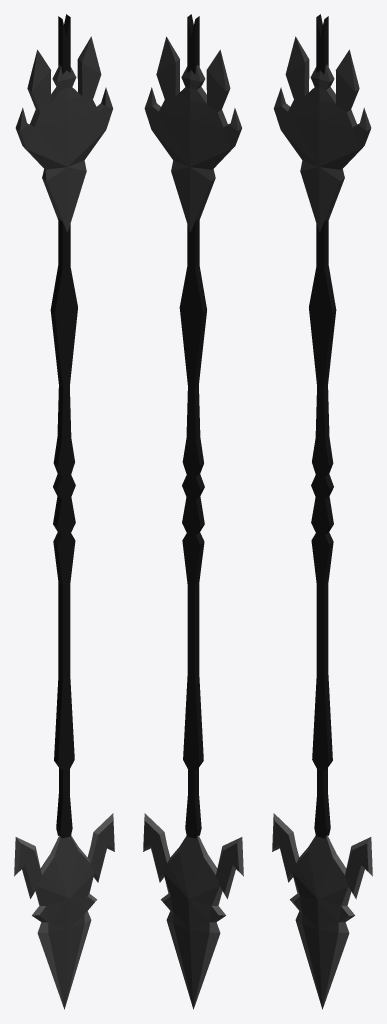
Rendered from Arrow_12.fbx.
The picture shows the model from 3 angles, left to right: view 1: azimuth 30°, elevation 25°; view 2: azimuth 150°, elevation 25°; view 3: azimuth 330°, elevation 25°; orthographic projection.
Visible parts, largest first — view 1: Comp_Arrow_12; view 2: Comp_Arrow_12; view 3: Comp_Arrow_12.
Part boxes in pixels (box(x1,y1,x2,y2)): Comp_Arrow_12: box(14, 14, 114, 1009); Comp_Arrow_12: box(143, 14, 243, 1009); Comp_Arrow_12: box(272, 14, 372, 1009).
Size of the model in its own units: 21.05 by 198 by 3.69.
